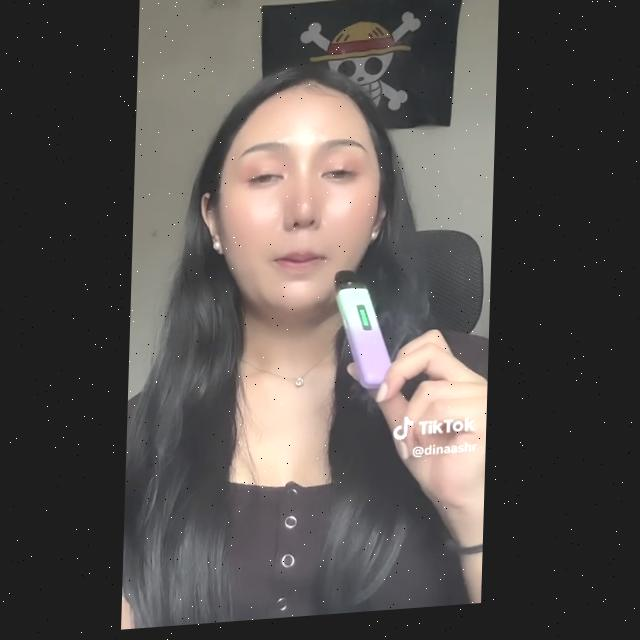vape: (335, 269, 397, 397)
